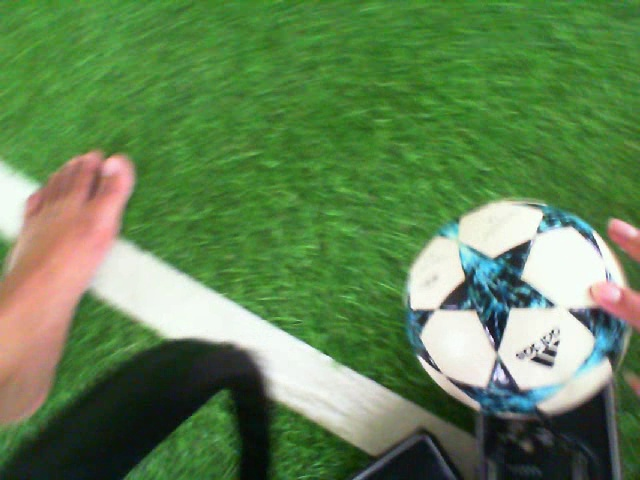ball: (399, 195, 636, 426)
